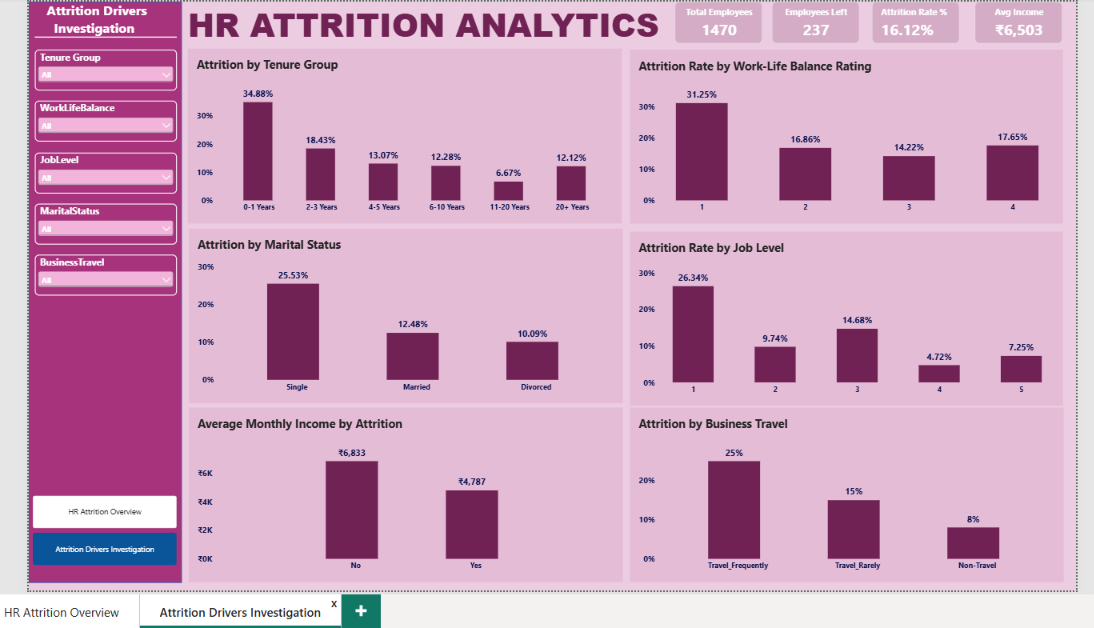

What the dashboard file says about the page in this screenshot:
{"tool":"powerbi","page":{"name":"Attrition Drivers Investigation","canvas":[1920,1080],"ordinal":1},"visuals":[{"type":"shape","box":[0,0,280.6,1066],"z":0},{"type":"textbox","box":[291.6,0,871.3,102.7],"z":1000},{"type":"textbox","box":[0,0,280.6,66],"z":2000},{"type":"shape","box":[11,58.7,260.5,12.8],"z":3000},{"type":"clusteredColumnChart","title":"Attrition by Tenure Group","fields":{"Y":["HR_Attrition_Cleaned.Attrition Rate %"],"Category":["HR_Attrition_Cleaned.Tenure Group"]},"box":[291.6,86.2,796.1,321],"z":4000},{"type":"slicer","fields":{"Values":["HR_Attrition_Cleaned.MaritalStatus"]},"box":[11,370.5,260.5,75.2],"z":5000},{"type":"slicer","fields":{"Values":["HR_Attrition_Cleaned.Tenure Group"]},"box":[11,88,260.5,75.2],"z":6000},{"type":"slicer","fields":{"Values":["HR_Attrition_Cleaned.JobLevel"]},"box":[11,276.4,260.5,75.2],"z":7000},{"type":"slicer","fields":{"Values":["HR_Attrition_Cleaned.WorkLifeBalance"]},"box":[11,182.2,260.5,75.2],"z":8000},{"type":"clusteredColumnChart","title":"Attrition Rate by Work-Life Balance Rating","fields":{"Y":["HR_Attrition_Cleaned.Attrition Rate %"],"Category":["HR_Attrition_Cleaned.WorkLifeBalance"]},"box":[1102.4,88,794.2,319.2],"z":9000},{"type":"clusteredColumnChart","title":"Attrition by Marital Status","fields":{"Y":["HR_Attrition_Cleaned.Attrition Rate %"],"Category":["HR_Attrition_Cleaned.MaritalStatus"]},"box":[293.5,416,796,320],"z":10000},{"type":"clusteredColumnChart","title":"Attrition Rate by Job Level","fields":{"Y":["HR_Attrition_Cleaned.Attrition Rate %"],"Category":["HR_Attrition_Cleaned.JobLevel"]},"box":[1102.4,421.9,794.2,319.2],"z":11000},{"type":"cardVisual","fields":{"Data":["HR_Attrition_Cleaned.Total Employees"]},"box":[1184.9,0,161,77],"z":12000},{"type":"cardVisual","fields":{"Data":["HR_Attrition_Cleaned.Employees Left"]},"box":[1362.8,0,161.4,77],"z":13000},{"type":"cardVisual","fields":{"Data":["HR_Attrition_Cleaned.Attrition Rate %"]},"box":[1546.3,0,161.4,77],"z":14000},{"type":"cardVisual","fields":{"Data":["HR_Attrition_Cleaned.Average Monthly Income"]},"box":[1735.2,0,161.4,77],"z":15000},{"type":"clusteredColumnChart","title":"Average Monthly Income by Attrition","fields":{"Y":["HR_Attrition_Cleaned.Average Monthly Income"],"Category":["HR_Attrition_Cleaned.Attrition"]},"box":[293.5,744.7,796,320],"z":16000},{"type":"clusteredColumnChart","title":"Attrition by Business Travel","fields":{"Category":["HR_Attrition_Cleaned.BusinessTravel"],"Y":["HR_Attrition_Cleaned.Attrition Rate %"]},"box":[1102.4,744.7,796,320],"z":17000},{"type":"slicer","fields":{"Values":["HR_Attrition_Cleaned.BusinessTravel"]},"box":[11,464.1,260.5,75.2],"z":18000},{"type":"pageNavigator","box":[7.3,906.1,264.1,128.4],"z":19000}]}

Visuals, with their boxes on the page's 1920x1080 design canvas (x1, y1, x2, y2). These are canvas units, not pixel positions in the 1094x628 screenshot, which may show the page scaled, cropped or inside an application window:
shape: Rect(0, 0, 281, 1066)
textbox: Rect(292, 0, 1163, 103)
textbox: Rect(0, 0, 281, 66)
shape: Rect(11, 59, 272, 72)
"Attrition by Tenure Group" clusteredColumnChart: Rect(292, 86, 1088, 407)
slicer - HR_Attrition_Cleaned.MaritalStatus: Rect(11, 370, 272, 446)
slicer - HR_Attrition_Cleaned.Tenure Group: Rect(11, 88, 272, 163)
slicer - HR_Attrition_Cleaned.JobLevel: Rect(11, 276, 272, 352)
slicer - HR_Attrition_Cleaned.WorkLifeBalance: Rect(11, 182, 272, 257)
"Attrition Rate by Work-Life Balance Rating" clusteredColumnChart: Rect(1102, 88, 1897, 407)
"Attrition by Marital Status" clusteredColumnChart: Rect(294, 416, 1090, 736)
"Attrition Rate by Job Level" clusteredColumnChart: Rect(1102, 422, 1897, 741)
cardVisual - HR_Attrition_Cleaned.Total Employees: Rect(1185, 0, 1346, 77)
cardVisual - HR_Attrition_Cleaned.Employees Left: Rect(1363, 0, 1524, 77)
cardVisual - HR_Attrition_Cleaned.Attrition Rate %: Rect(1546, 0, 1708, 77)
cardVisual - HR_Attrition_Cleaned.Average Monthly Income: Rect(1735, 0, 1897, 77)
"Average Monthly Income by Attrition" clusteredColumnChart: Rect(294, 745, 1090, 1065)
"Attrition by Business Travel" clusteredColumnChart: Rect(1102, 745, 1898, 1065)
slicer - HR_Attrition_Cleaned.BusinessTravel: Rect(11, 464, 272, 539)
pageNavigator: Rect(7, 906, 271, 1034)
